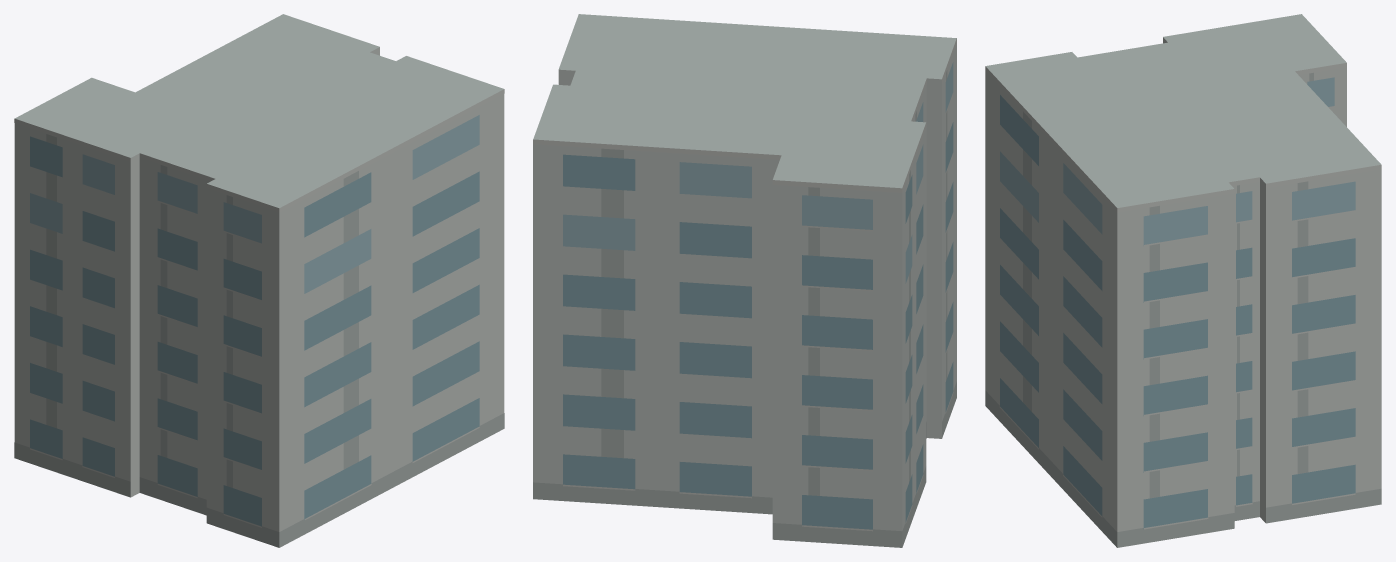
The model's file is survey-upis-32549228.glb.
The picture shows the model from 3 angles, left to right: view 1: azimuth 30°, elevation 25°; view 2: azimuth 150°, elevation 25°; view 3: azimuth 270°, elevation 25°; orthographic projection. The views are drawn at different scales.
Visible parts, largest first — view 1: survey-upis-32549228.tmp; view 2: survey-upis-32549228.tmp; view 3: survey-upis-32549228.tmp.
Boxes of the visible parts, <box> form: survey-upis-32549228.tmp: <box>14,14,504,547</box>; survey-upis-32549228.tmp: <box>533,14,956,547</box>; survey-upis-32549228.tmp: <box>985,14,1381,547</box>.
Size of the model in its own units: 22.25 by 18.15 by 19.2.
